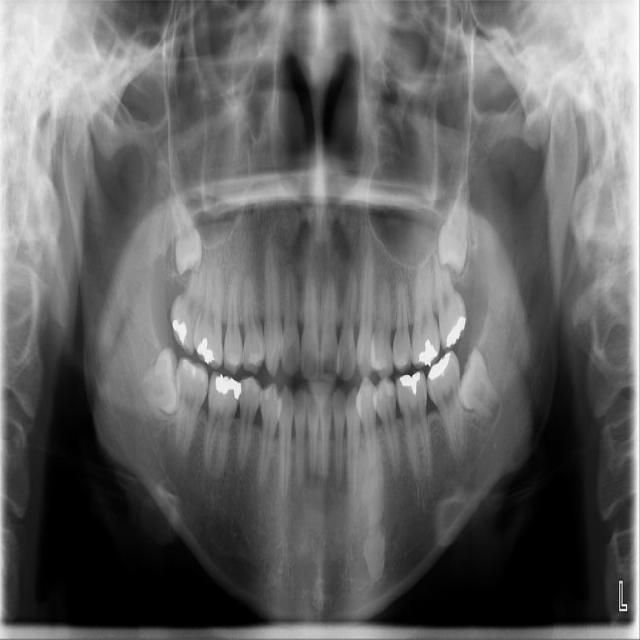Filling: (445, 316, 466, 348), (428, 352, 451, 381), (216, 373, 241, 399), (399, 372, 420, 398), (197, 336, 215, 365), (418, 339, 438, 364), (172, 318, 188, 343)
impacted tooth: (456, 351, 504, 426), (439, 171, 472, 272), (168, 181, 201, 272), (136, 344, 177, 413)
